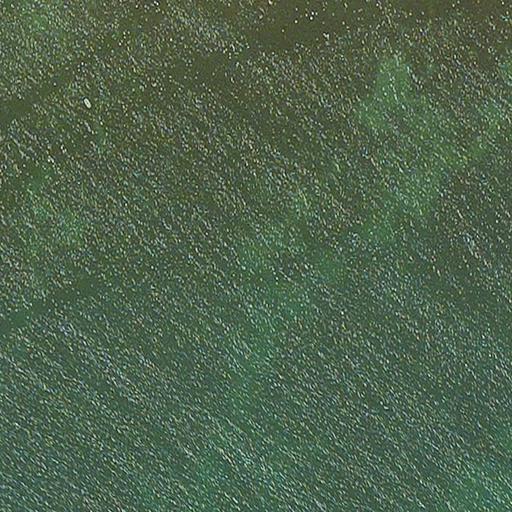ship: (81, 96, 94, 111)
